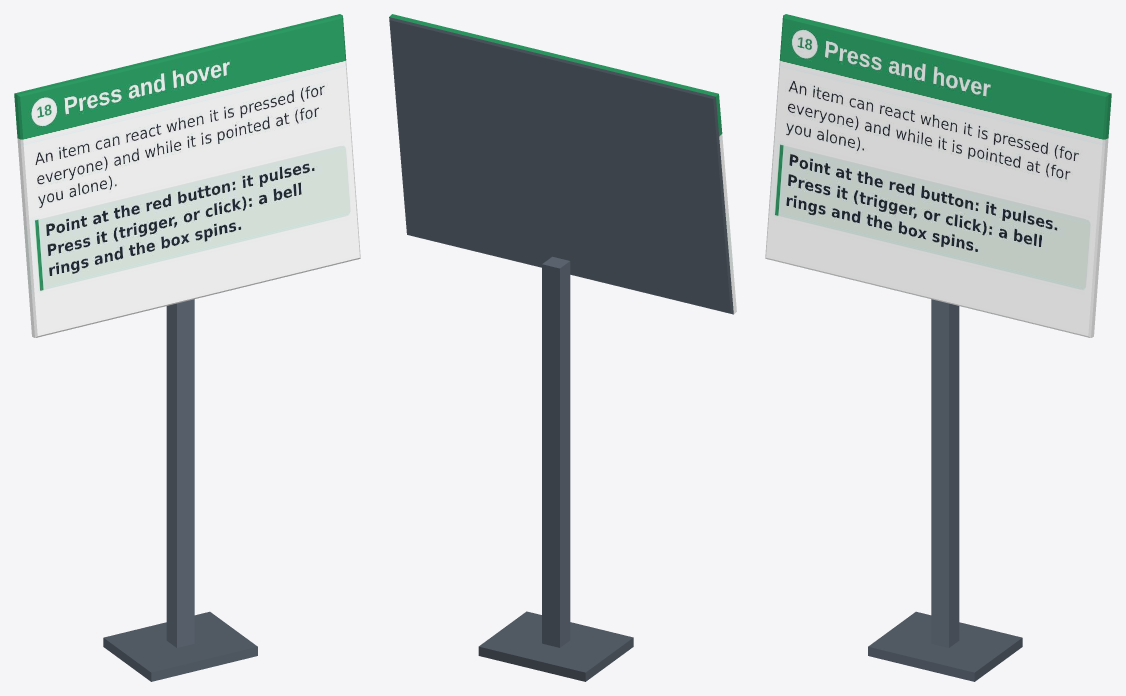
File: 18-press-and-hover.glb
3 renders of one model, left to right at view 1: azimuth 30°, elevation 25°; view 2: azimuth 150°, elevation 25°; view 3: azimuth 330°, elevation 25°, orthographic.
Visible parts, largest first — view 1: board; view 2: board; view 3: board.
Boxes of the visible parts, left/top/right/bottom form: board: left=14, top=14, right=360, bottom=681; board: left=389, top=14, right=736, bottom=681; board: left=765, top=14, right=1111, bottom=681.
Bounding box in the file's own units: 1.1 × 1.92 × 0.28.
Materials: 1 (1 with a texture image).
